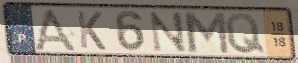6: (113, 9, 146, 53)
A: (31, 7, 80, 54)
K: (75, 9, 108, 52)
M: (181, 10, 232, 55)
N: (147, 11, 189, 54)
Q: (223, 12, 267, 56)
